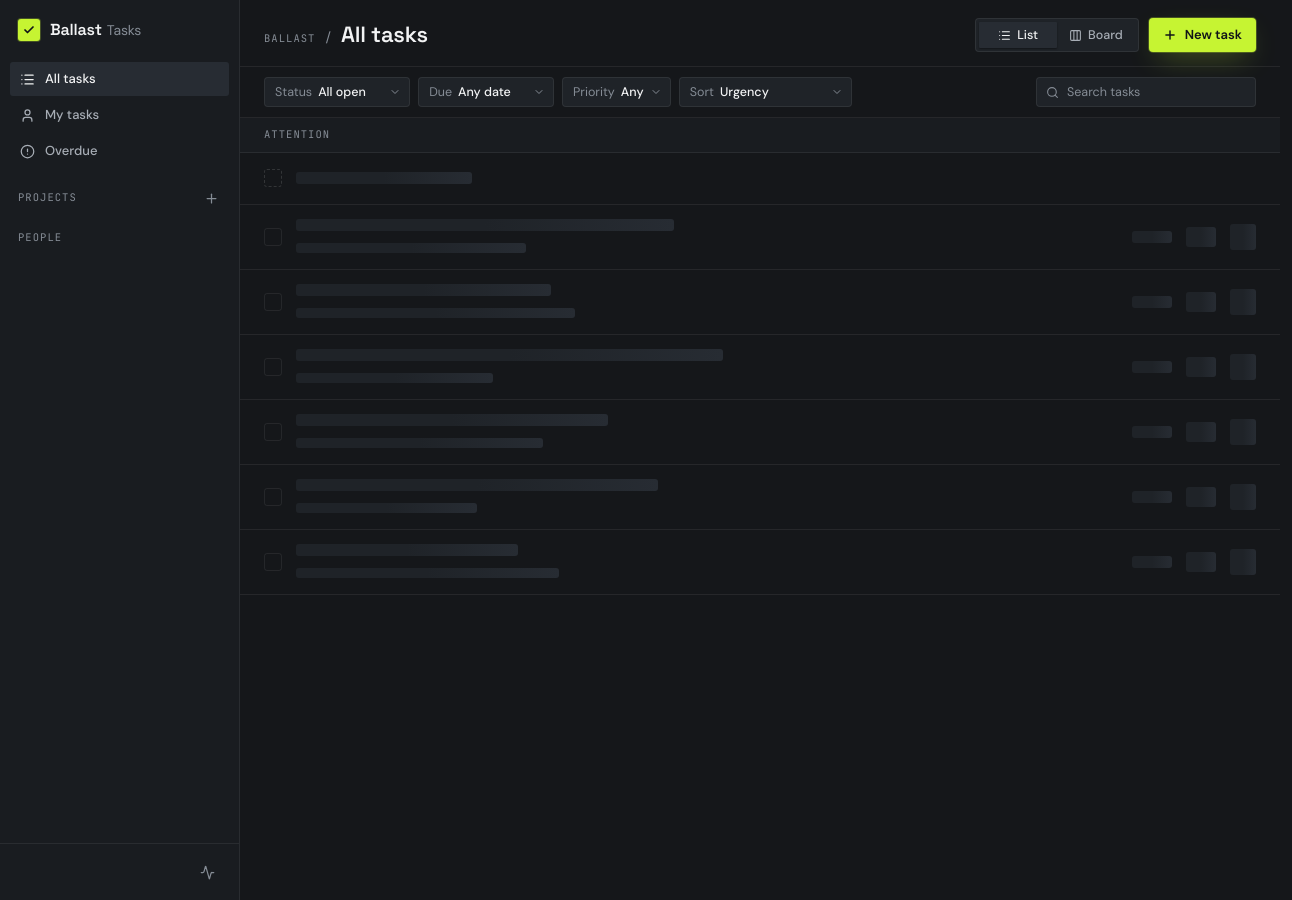
Test: columns › shows the four statuses in workflow order with live counts
Click the radio button "Board" at (1096, 35), box left=1069, top=27, right=1123, bottom=43
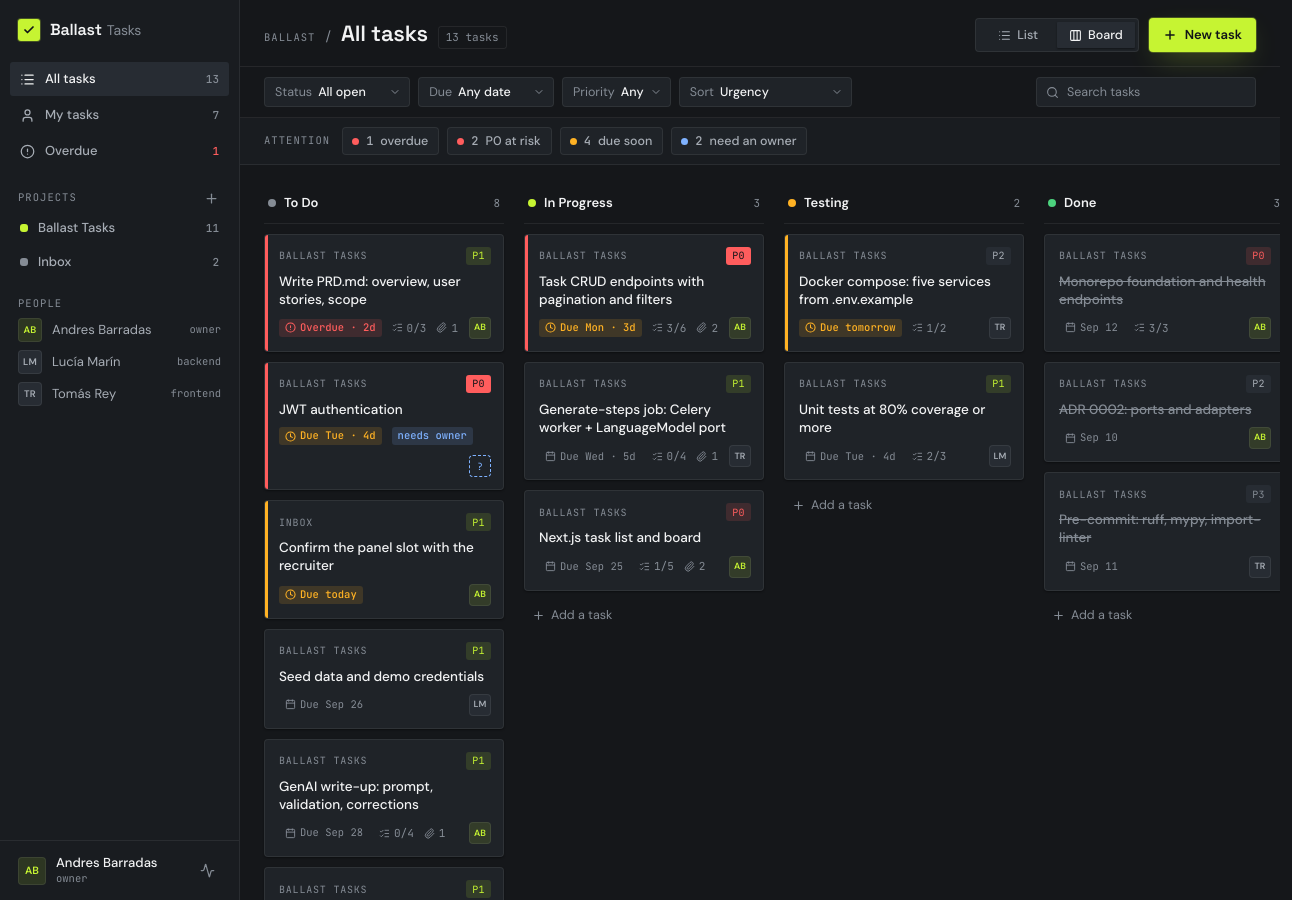
Now the headings read "To Do", "In Progress", "Testing", "Done", in this order, box left=284, top=193, right=318, bottom=212; left=544, top=193, right=613, bottom=212; left=804, top=193, right=849, bottom=212; left=1064, top=193, right=1096, bottom=212
Now the element with test id "column-count" reads "8", box left=493, top=196, right=500, bottom=210
Now the element with test id "column-count" next to "In Progress" reads "3", box left=753, top=196, right=760, bottom=210
